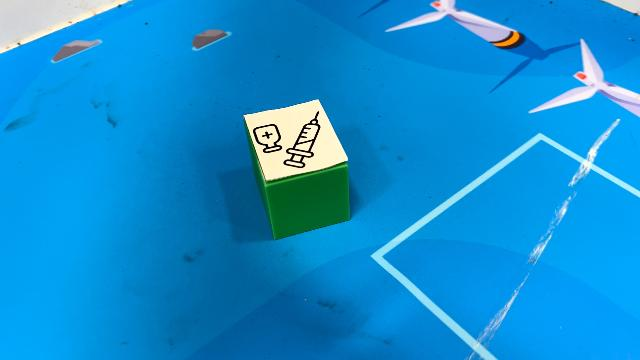syringe: (242, 99, 350, 240)
